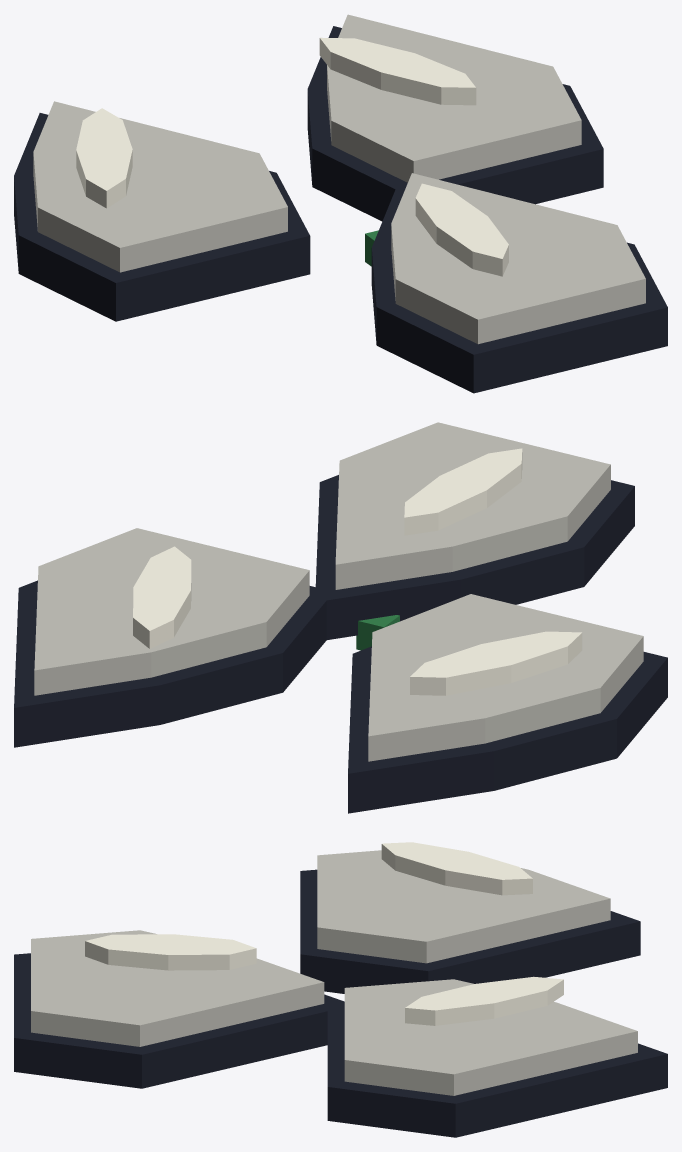
Rendered from garlic_seeds.fbx.
The picture shows the model from 3 angles, top to bottom: view 1: azimuth 30°, elevation 25°; view 2: azimuth 150°, elevation 25°; view 3: azimuth 270°, elevation 25°; orthographic projection. The views are drawn at different scales.
Parts seen in each view (by area): view 1: garlic_seeds__Icon; view 2: garlic_seeds__Icon, garlic_seeds__Origin; view 3: garlic_seeds__Icon.
Part boxes in pixels (left/top/right/bottom): garlic_seeds__Icon: left=14, top=14, right=667, bottom=393; garlic_seeds__Icon: left=14, top=422, right=667, bottom=813; garlic_seeds__Origin: left=356, top=615, right=399, bottom=650; garlic_seeds__Icon: left=14, top=842, right=667, bottom=1137.
Bounding box in the file's own units: 0.8432 × 0.145 × 0.959.
1 material, 1 textured.
